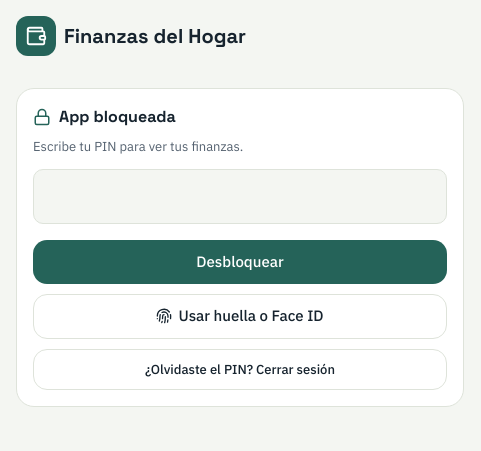
Test: Huella o Face ID › si la huella falla lo dice y deja usar el PIN
Click the button "Usar huella o Face ID". click: (240, 316)
box: [33,294,447,338]
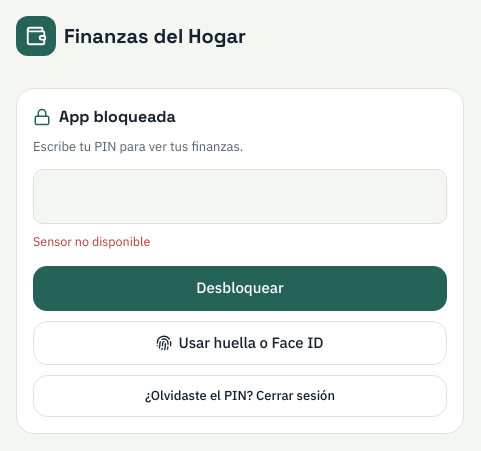
Expected: the password field named "PIN" is shown, [33,168,447,224]
Result: the message reads "Sensor no disponible" at [33,232,150,248]
